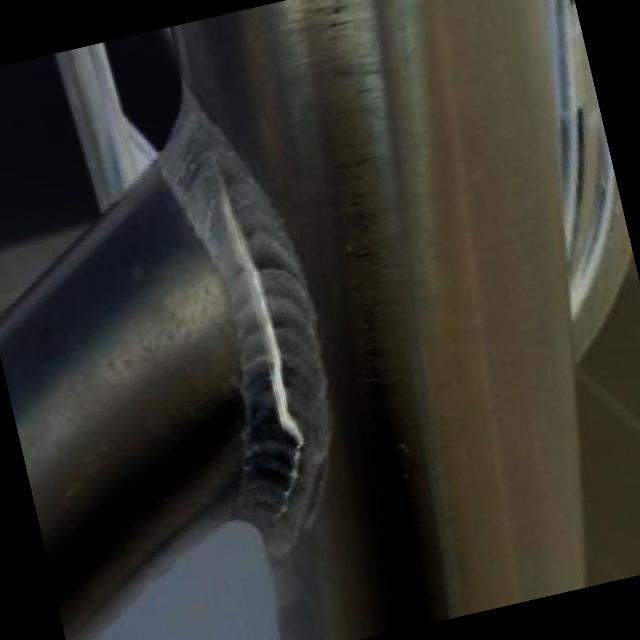crack: (216, 172, 302, 454), (260, 452, 314, 520)
